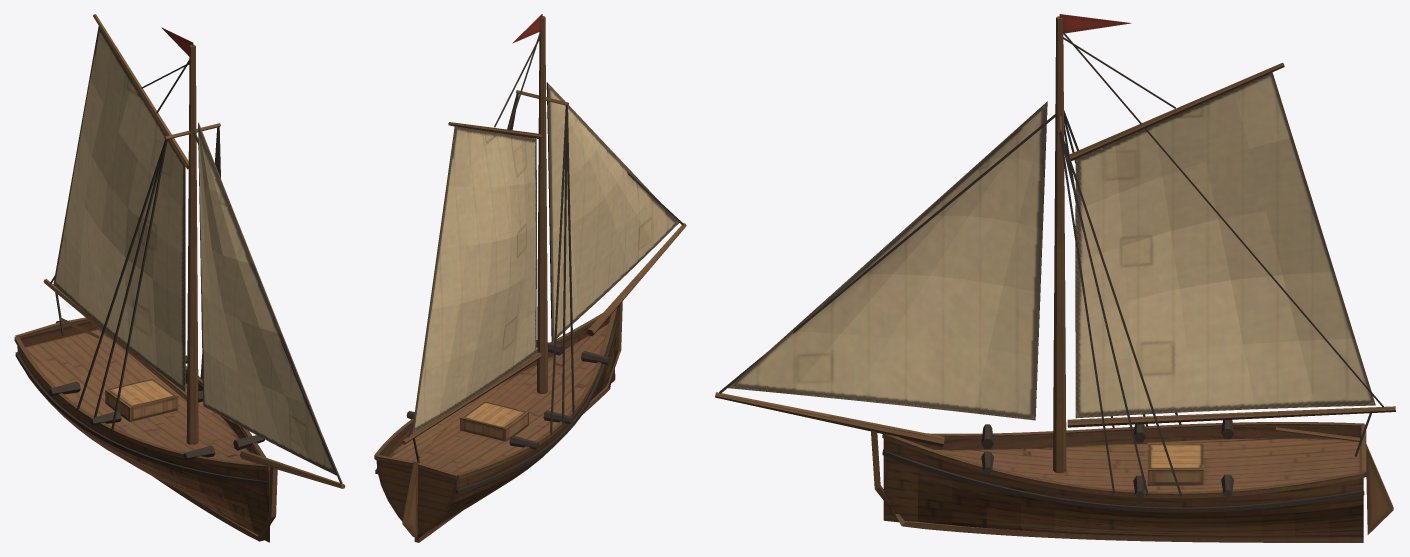
File: Sloop.fbx
3 renders of one model, left to right at view 1: azimuth 30°, elevation 25°; view 2: azimuth 150°, elevation 25°; view 3: azimuth 270°, elevation 25°, orthographic. The views are drawn at different scales.
Parts seen in each view (by area): view 1: Sail_Main, Sail_Jib, Deck, Hull, Mast, Hatch, Rail_S, Wale_S, Keel, Gaff, Shroud_S0, Shroud_S1 (+3 smaller); view 2: Sail_Main, Sail_Jib, Deck, Hull, Mast, Hatch, Rail_S, Wale_S, Bowsprit, Shroud_S2, Shroud_S1, Shroud_S0 (+6 smaller); view 3: Sail_Main, Sail_Jib, Hull, Deck, Mast, Rail_P, Keel, Wale_P, Hatch, Boom, Bowsprit, Rail_S (+7 smaller).
Boxes of the visible parts, left/top/right/bottom form: Sail_Main: left=53, top=26, right=185, bottom=391; Sail_Jib: left=198, top=122, right=336, bottom=475; Deck: left=25, top=329, right=256, bottom=463; Hull: left=17, top=321, right=270, bottom=542; Mast: left=186, top=44, right=198, bottom=444; Hatch: left=105, top=378, right=178, bottom=421; Rail_S: left=14, top=336, right=269, bottom=470; Wale_S: left=15, top=352, right=269, bottom=485; Keel: left=154, top=462, right=277, bottom=541; Gaff: left=93, top=14, right=188, bottom=169; Shroud_S0: left=111, top=139, right=167, bottom=431; Shroud_S1: left=94, top=141, right=165, bottom=417; Sail_Main: left=412, top=126, right=536, bottom=433; Sail_Jib: left=546, top=82, right=679, bottom=342; Deck: left=389, top=323, right=608, bottom=473; Hull: left=376, top=315, right=616, bottom=538; Mast: left=537, top=16, right=547, bottom=393; Hatch: left=460, top=401, right=528, bottom=441; Rail_S: left=457, top=308, right=617, bottom=479; Wale_S: left=455, top=321, right=617, bottom=493; Bowsprit: left=587, top=223, right=686, bottom=336; Shroud_S2: left=550, top=105, right=567, bottom=435; Shroud_S1: left=562, top=107, right=567, bottom=425; Shroud_S0: left=567, top=112, right=574, bottom=414; Sail_Main: left=1075, top=72, right=1375, bottom=418; Sail_Jib: left=728, top=101, right=1047, bottom=420; Hull: left=883, top=426, right=1363, bottom=537; Deck: left=934, top=438, right=1360, bottom=491; Mast: left=1053, top=16, right=1066, bottom=473; Rail_P: left=882, top=433, right=1364, bottom=498; Keel: left=870, top=426, right=1363, bottom=542; Wale_P: left=882, top=451, right=1364, bottom=512; Hatch: left=1147, top=442, right=1203, bottom=485; Boom: left=1067, top=406, right=1395, bottom=427; Bowsprit: left=715, top=392, right=944, bottom=446; Rail_S: left=882, top=422, right=1364, bottom=437.
Size of the model in its own units: 4.52 by 14.55 by 17.02.
Materials: 1 (1 with a texture image).
